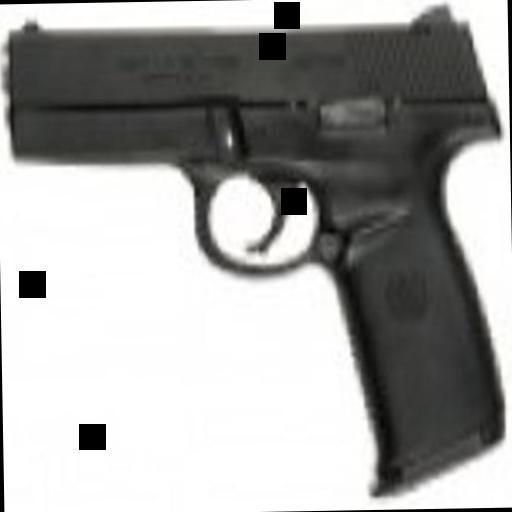Handgun: (0, 6, 499, 497)
